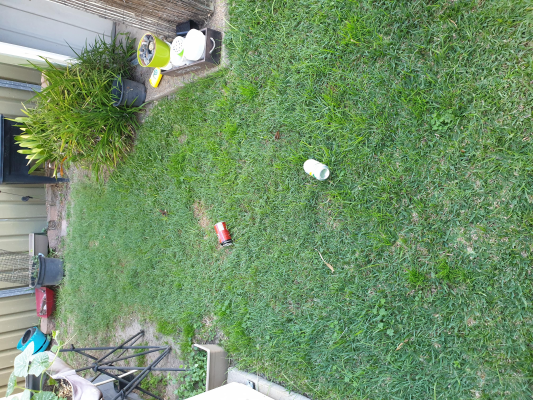Plastic Bottle: (303, 159, 330, 181), (214, 221, 233, 247)
